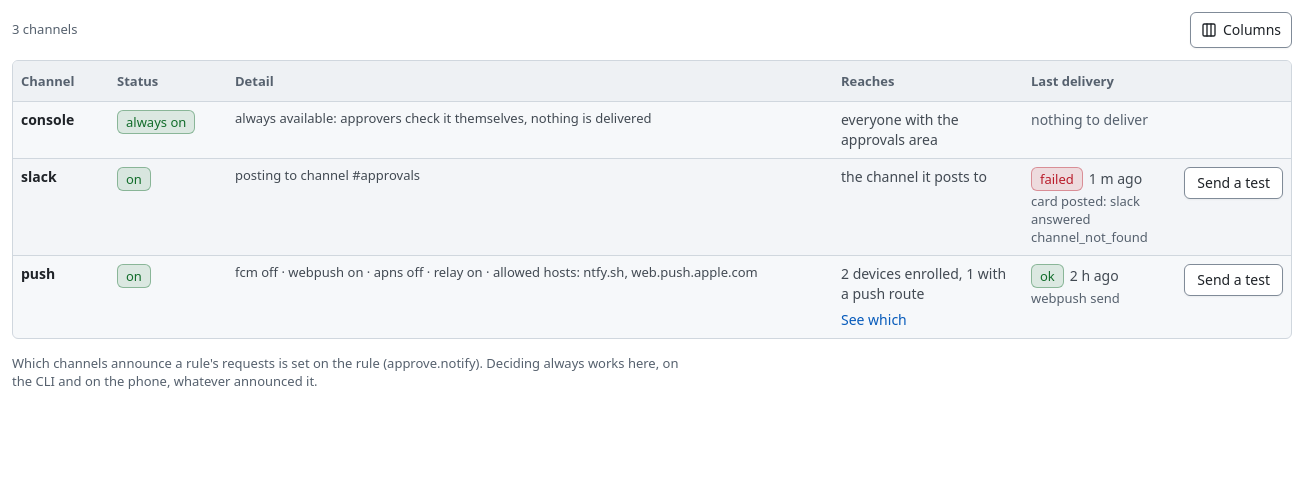
Test: the channels tab › says nothing on slack can receive a request when the test found no target
Click the button "Send a test" in the row of "posting to channel #approvals" at [1234, 182], box [1184,166,1283,198]
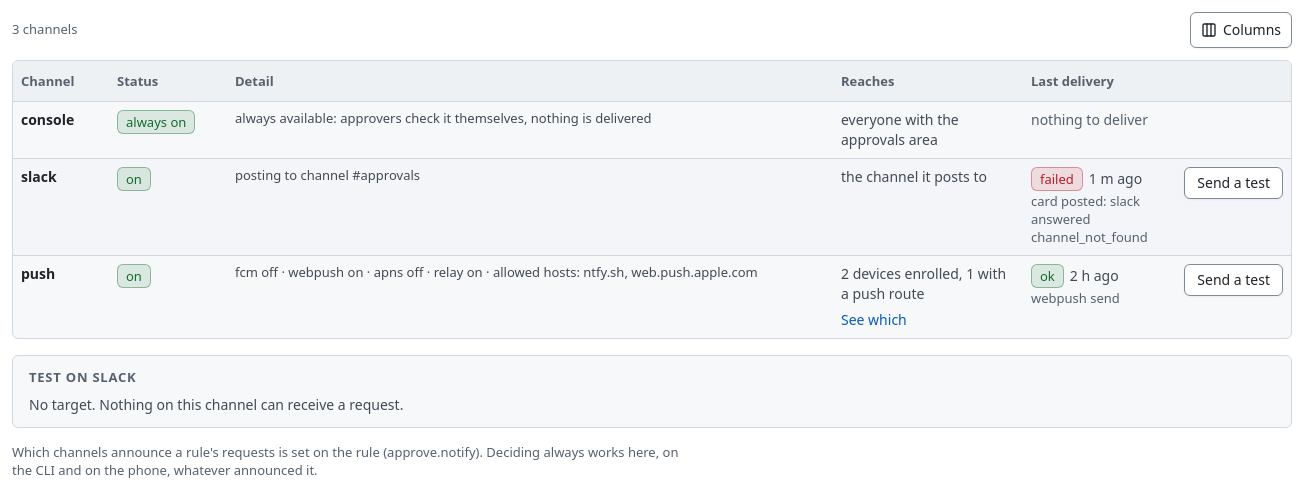
Check: the element that starts with "Test on slack" is shown, box [12,355,1292,428]
Check: the text "No target. Nothing on this channel can receive a request." is shown, box [29,395,403,414]
